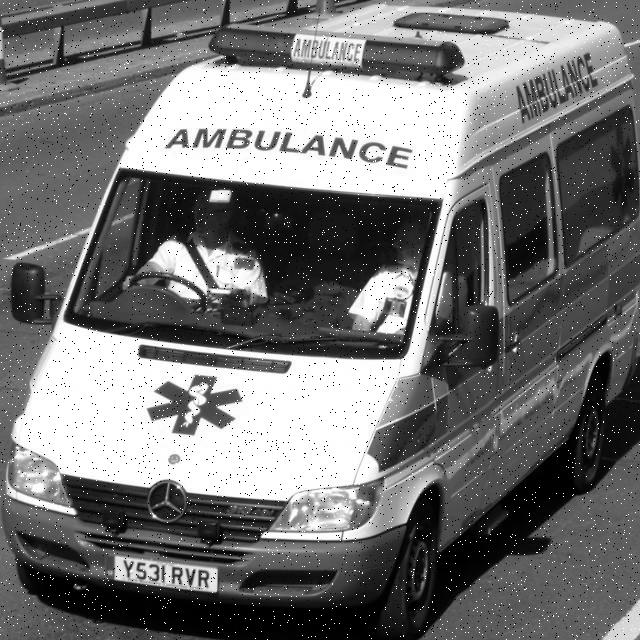Ambulance: (0, 2, 640, 640)
